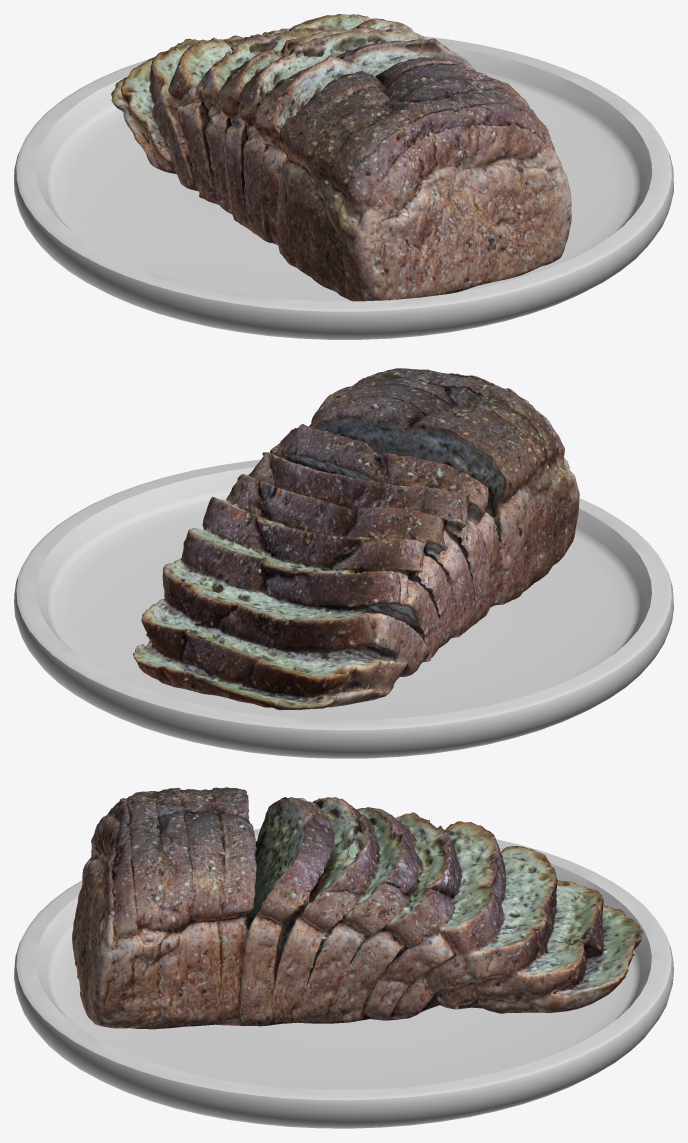
Rendered from Sliced bread.glb.
3 views of the same model, one above another, from view 1: azimuth 30°, elevation 25°; view 2: azimuth 150°, elevation 25°; view 3: azimuth 270°, elevation 25° (orthographic).
Visible parts, largest first — view 1: bread, plate; view 2: bread, plate; view 3: bread, plate.
Boxes of the visible parts, left/top/right/bottom form: bread: left=111, top=14, right=571, bottom=301; plate: left=14, top=36, right=673, bottom=339; bread: left=133, top=368, right=579, bottom=710; plate: left=14, top=460, right=673, bottom=758; bread: left=72, top=787, right=642, bottom=1029; plate: left=14, top=829, right=673, bottom=1128.
Bounding box in the file's own units: 0.5553 × 0.1747 × 0.5553.
2 materials, 1 textured.
